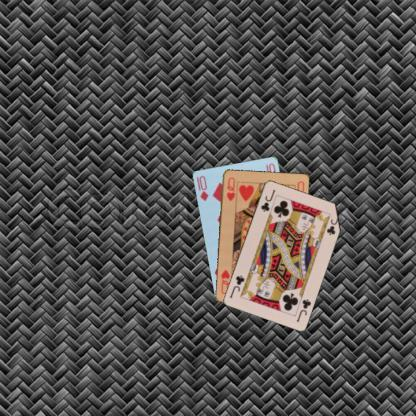10d: (194, 174, 210, 202)
Jc: (294, 296, 312, 323), (258, 186, 276, 212)
Qh: (224, 175, 236, 202)
